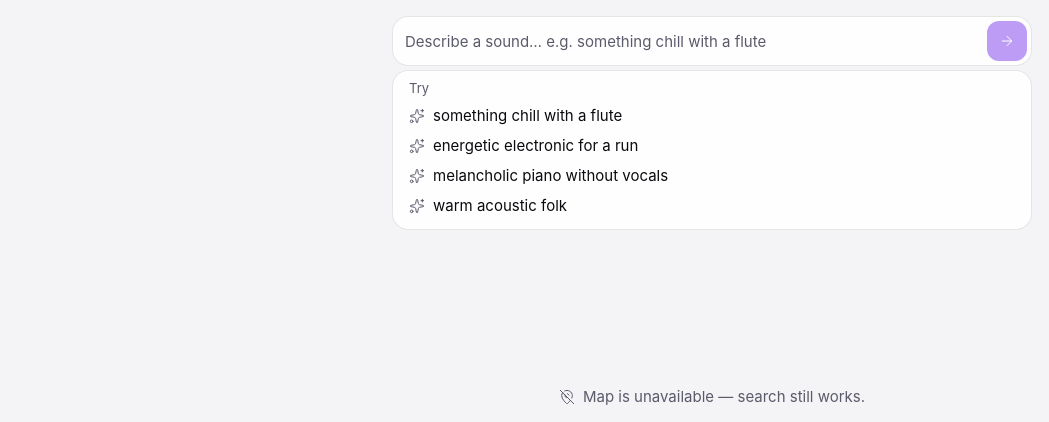
Scenario: DiscoverPage › error: a human message and a retry, no technical detail
In the field named "Search by describing a sound": (692, 41) [405, 21, 979, 61], type "chill flute"
Then press Enter
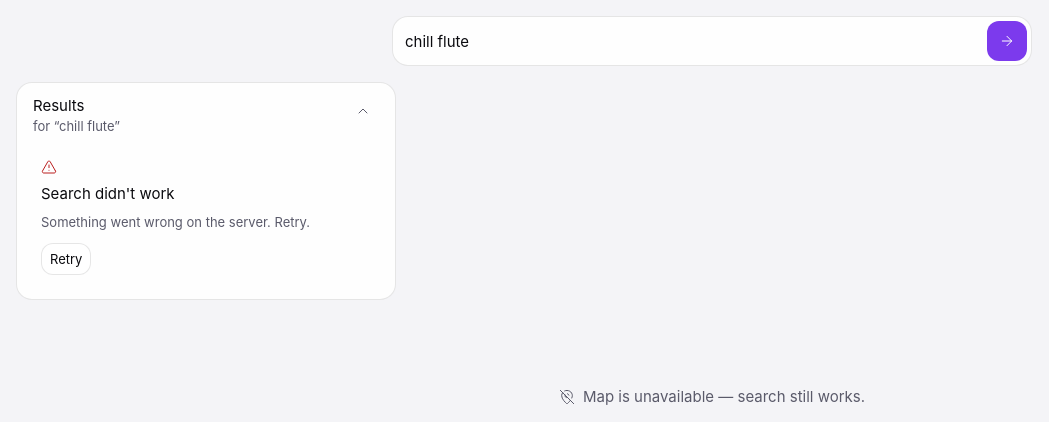
Expected: the message "Search didn't work Something went wrong on the server. Retry. Retry" does not show "internal_error", [41, 159, 310, 275]
Result: the message "Search didn't work Something went wrong on the server. Retry. Retry" is shown at [41, 159, 310, 275]
Result: the button "Retry" is shown at [41, 243, 91, 275]
